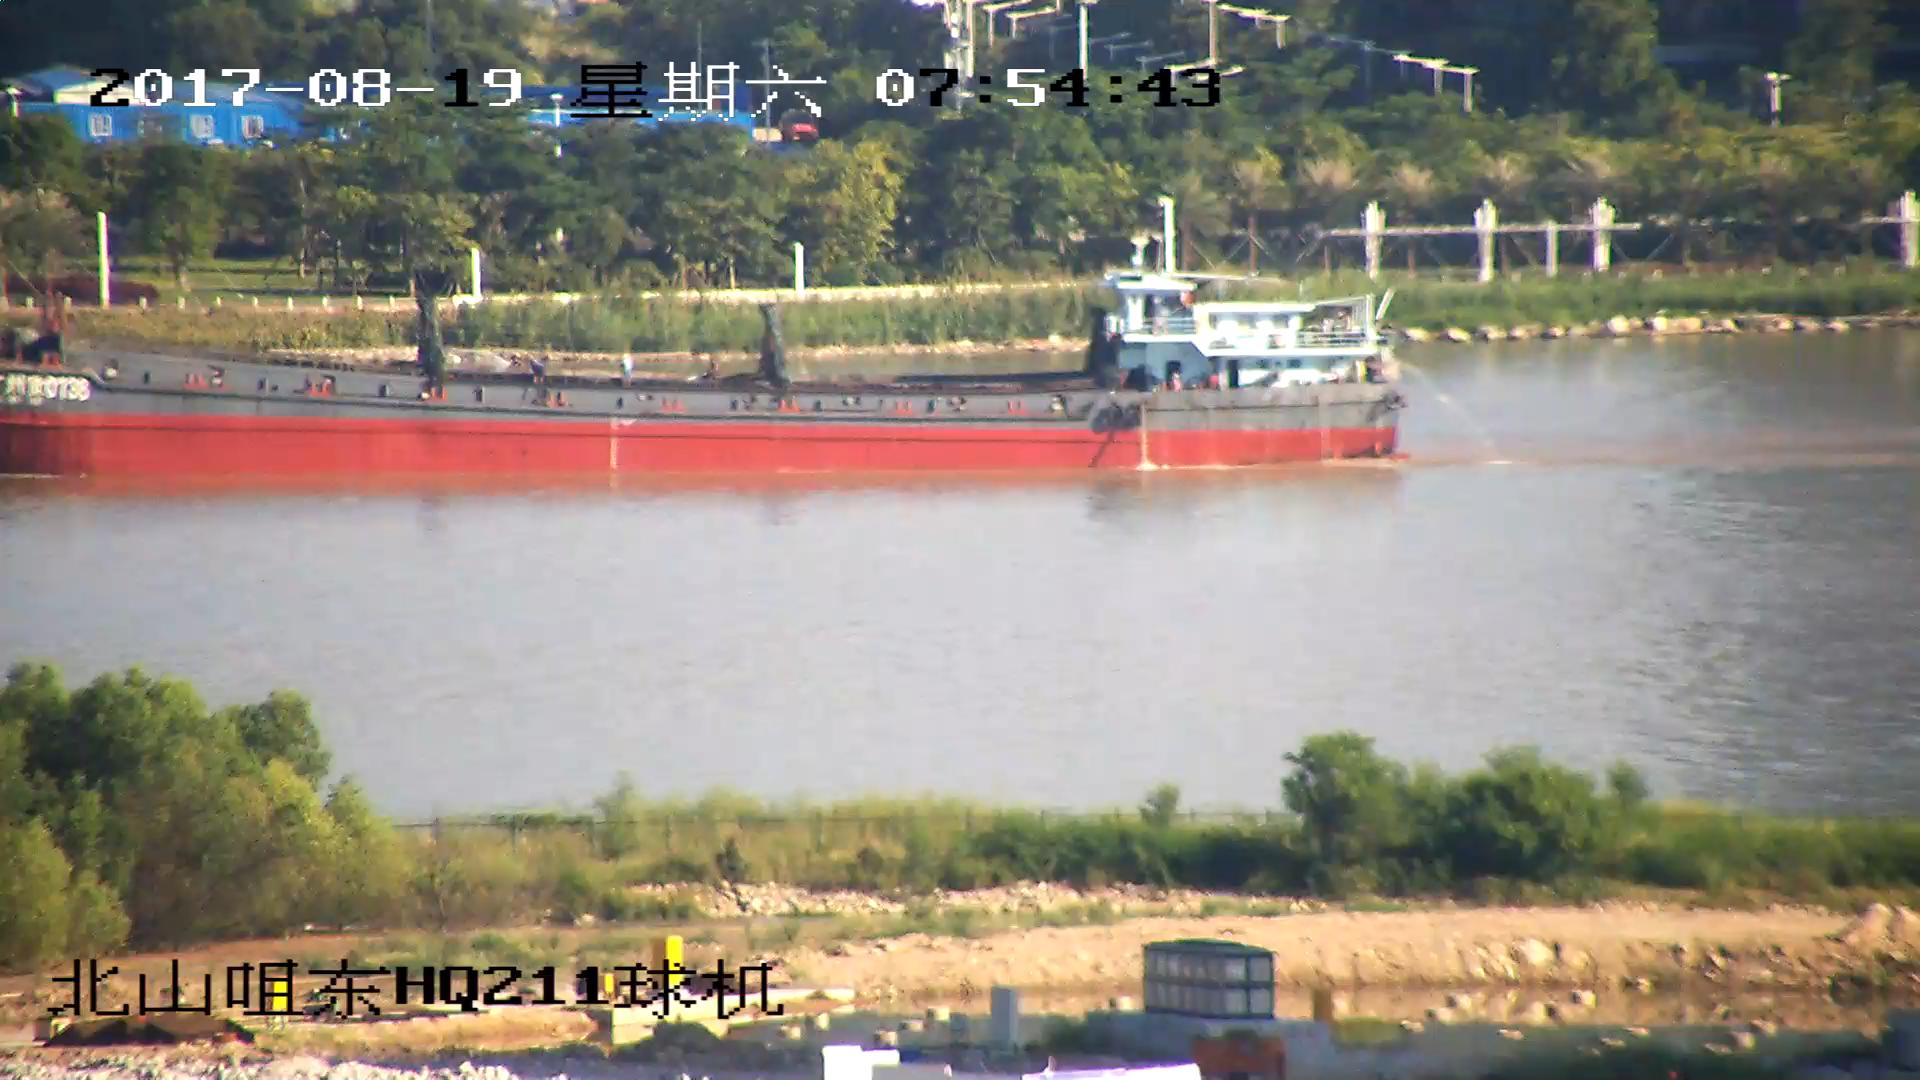bulk cargo carrier: (1, 260, 1409, 480)
